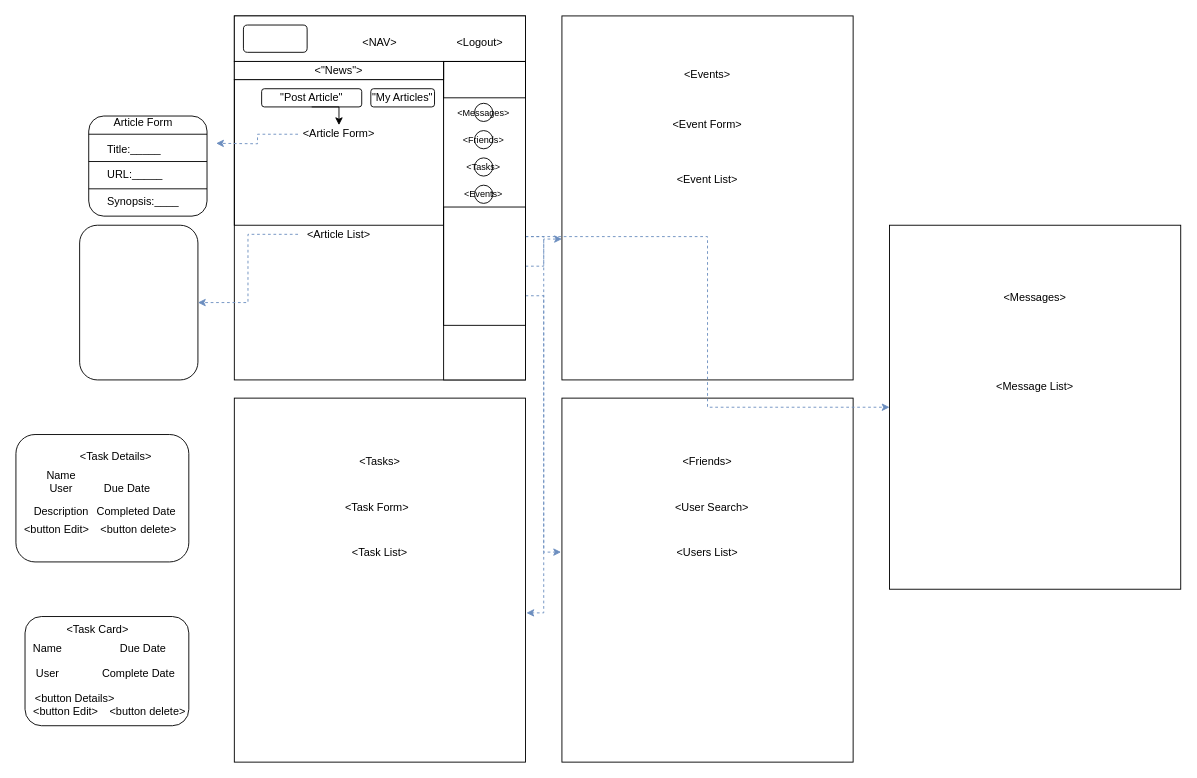
Some shapes in this 1197 by 778 pixel diagram are drawn without their labels. Here are the shapes that lost their labels. From the top down, the centre of each, then its label:
[275,38]: <Logo>
[484,79]: <Weather>
[484,265]: <Sidebar Display>
[138,302]: Article Card "Title" (URL linked) "Synopsis" "Date" by "User" <edit> <delete>
